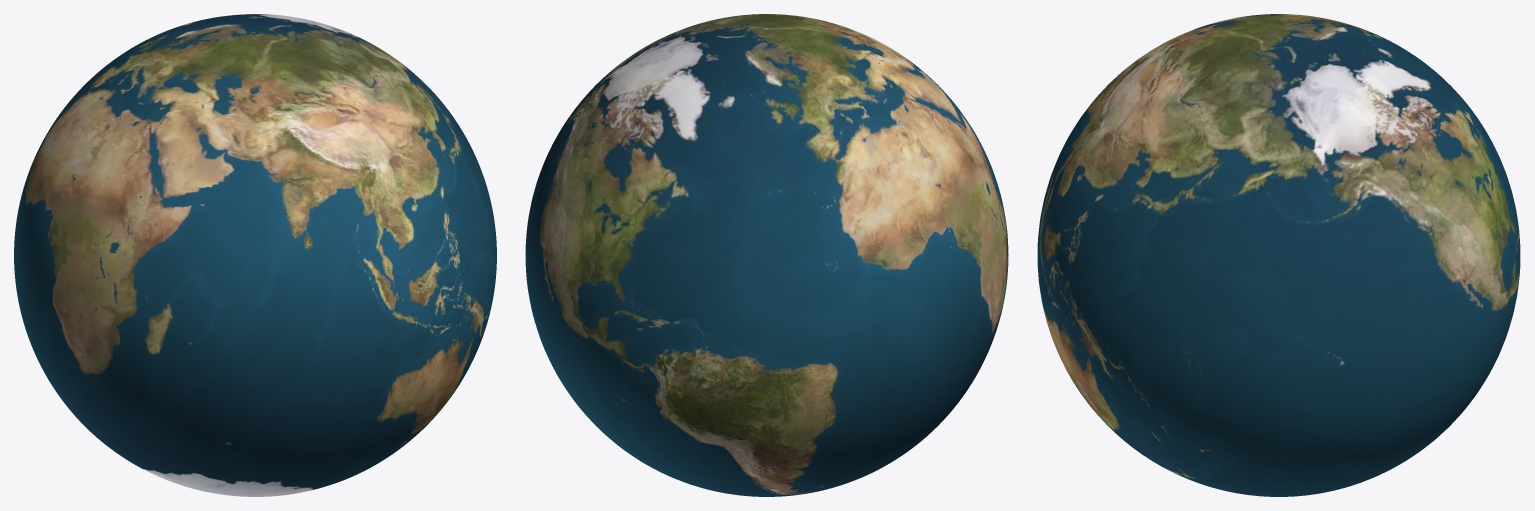
File: earth.glb
The picture shows the model from 3 angles, left to right: view 1: azimuth 30°, elevation 25°; view 2: azimuth 150°, elevation 25°; view 3: azimuth 270°, elevation 25°; orthographic projection.
Visible parts, largest first — view 1: earth1; view 2: earth1; view 3: earth1.
Part boxes in pixels (left/top/right/bottom): earth1: left=14, top=14, right=496, bottom=496; earth1: left=525, top=14, right=1008, bottom=496; earth1: left=1037, top=14, right=1520, bottom=496.
Size of the model in its own units: 2.08 by 2.08 by 2.08.
1 material, 1 textured.
